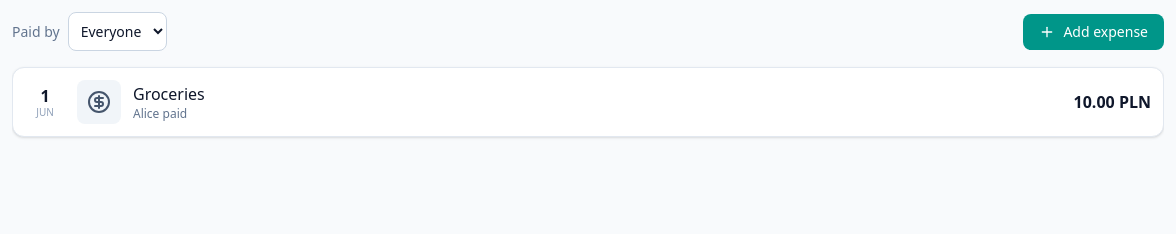
it: ExpensesTab — filter by payer › shows a filter-specific empty state instead of the onboarding one
Check: the text "Groceries" is shown, box left=133, top=83, right=205, bottom=105
Select "Bob" in the dropdown labelled "Paid by" at point(117, 32), box left=68, top=12, right=167, bottom=51
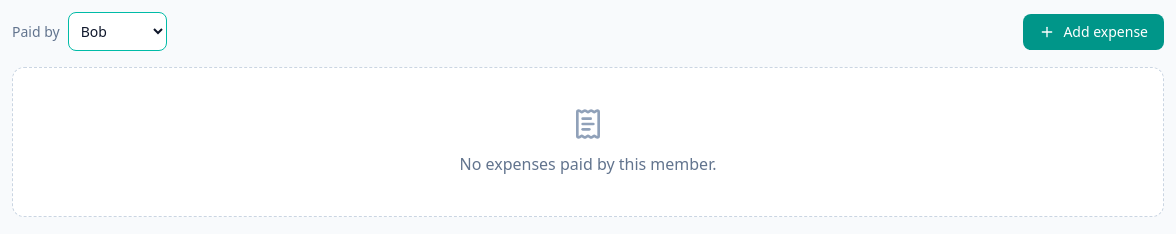
Check: the text "No expenses paid by this member." is shown, box left=460, top=153, right=716, bottom=175
